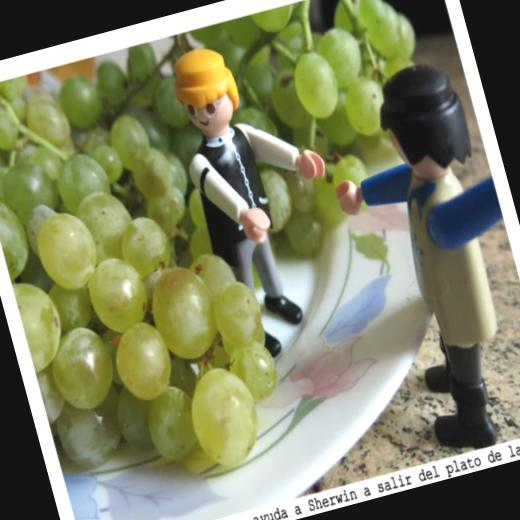Orange: (0, 0, 513, 514)
